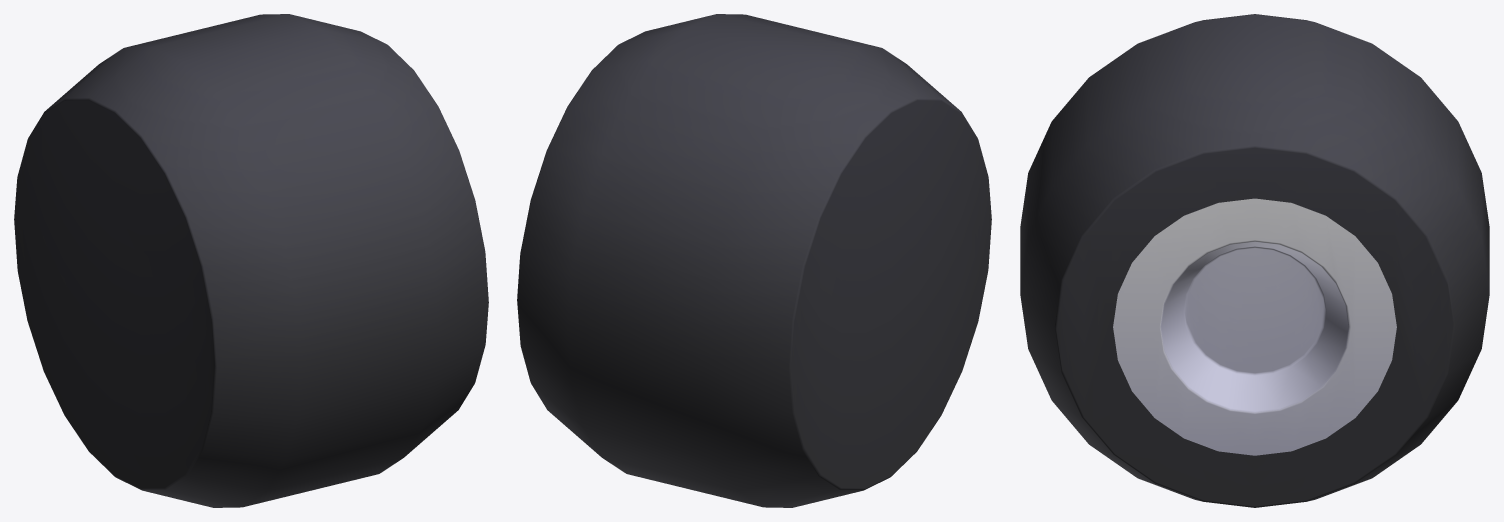
File: wheel-default.glb
3 views of the same model, side by side, from view 1: azimuth 30°, elevation 25°; view 2: azimuth 150°, elevation 25°; view 3: azimuth 270°, elevation 25° (orthographic).
Parts seen in each view (by area): view 1: wheel-default; view 2: wheel-default; view 3: wheel-default.
Boxes of the visible parts, x1,y1,x2,y2 form: wheel-default: (14, 14, 488, 507); wheel-default: (517, 14, 991, 507); wheel-default: (1020, 14, 1489, 507).
Size of the model in its own units: 0.4 by 0.6 by 0.6.
Materials: 1 (1 with a texture image).
